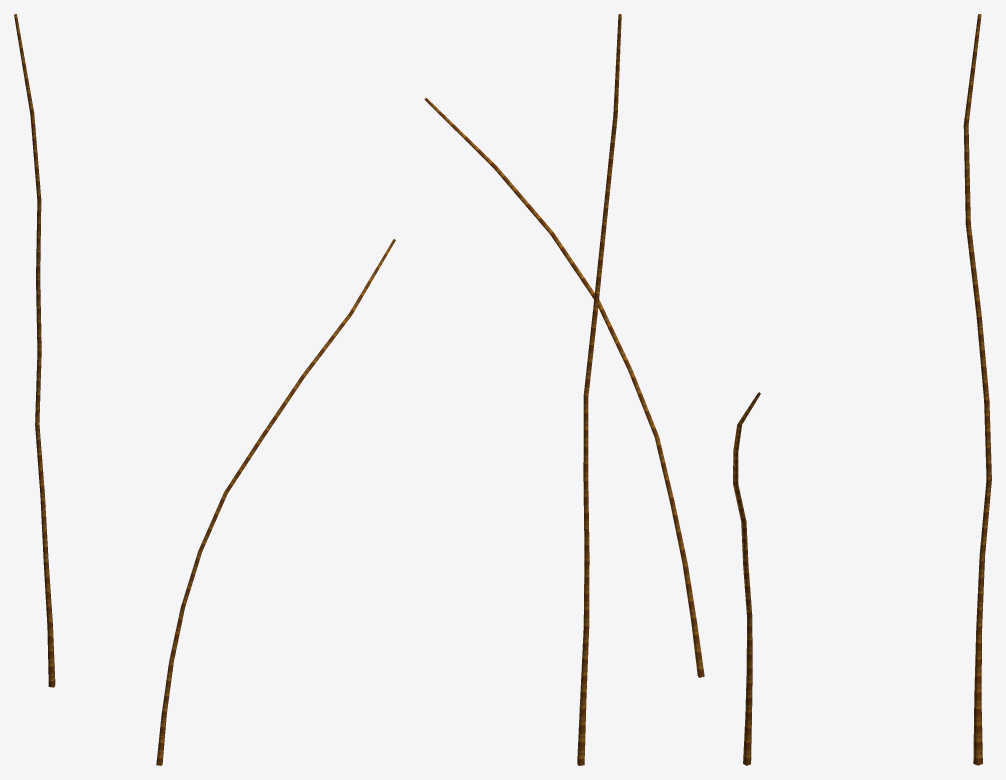
The picture shows the model from 3 angles, left to right: view 1: azimuth 30°, elevation 25°; view 2: azimuth 150°, elevation 25°; view 3: azimuth 270°, elevation 25°; orthographic projection. The views are drawn at different scales.
Visible parts, largest first — view 1: SM_SeedBag_1H_04_Drop_LOD0; view 2: SM_SeedBag_1H_04_Drop_LOD0; view 3: SM_SeedBag_1H_04_Drop_LOD0.
Part boxes in pixels (x1,y1,x2,y2): SM_SeedBag_1H_04_Drop_LOD0: (14, 14, 395, 765); SM_SeedBag_1H_04_Drop_LOD0: (424, 14, 704, 765); SM_SeedBag_1H_04_Drop_LOD0: (733, 14, 991, 765).
Size of the model in its own units: 0.3736 by 0.8697 by 0.2791.
